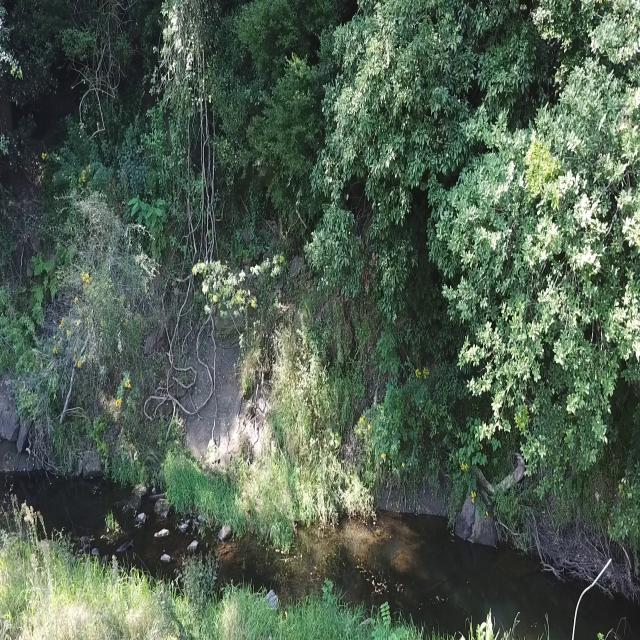Mysore-Thorn-Weed: (125, 185, 171, 256)
